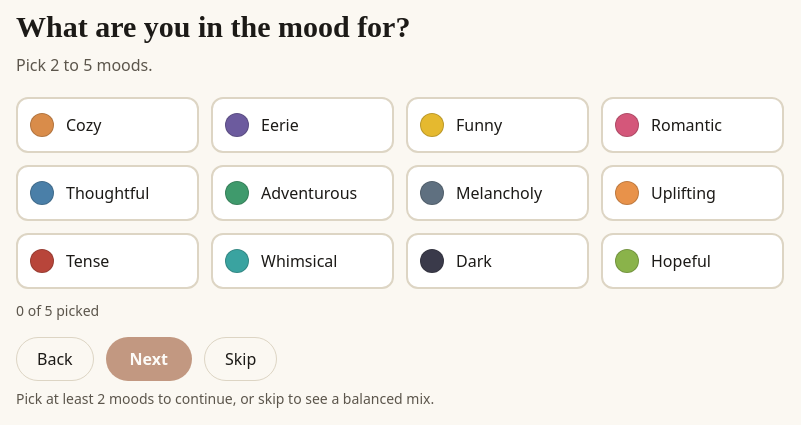
Test: Redo onboarding (the full flow) › has 12 labelled toggle buttons, Next disabled below 2 moods, and at most 5
The width and height of the screenshot is (801, 425).
expect the button "Next" is disabled: met, box [106,337,192,381]
expect the text "Pick at least 2 moods" is shown: met, box [16,389,434,408]
Click the button "Eerie".
click(302, 125)  # box [211,97,394,153]
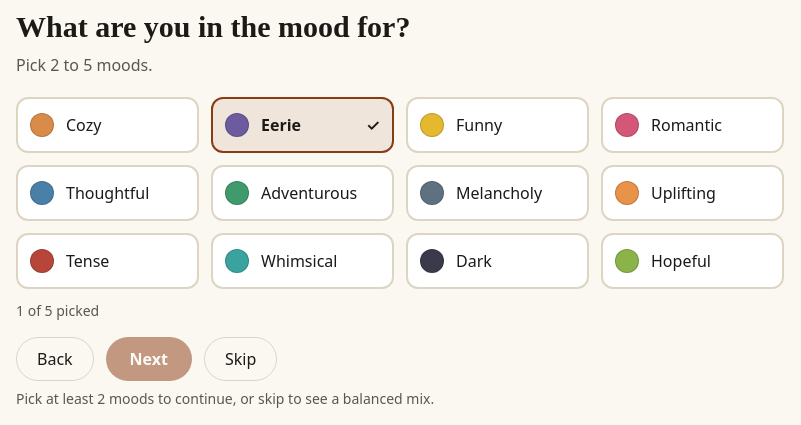
Click the button "Cozy".
click(108, 125)  # box [16,97,199,153]
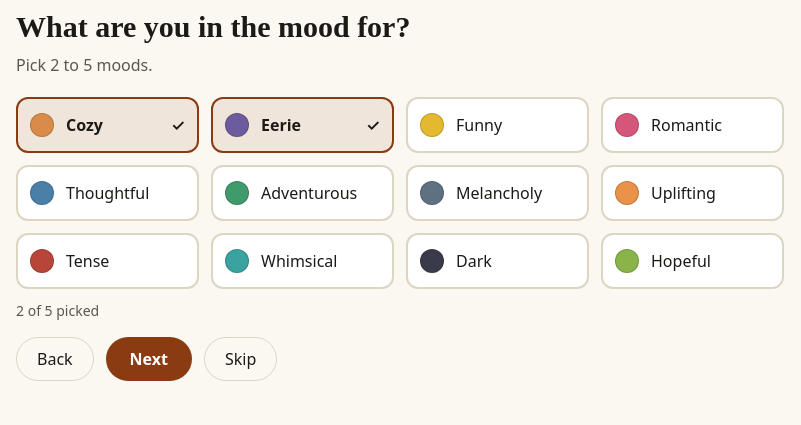
expect the button "Next" is enabled: met, box [106,337,192,381]
expect the message reads "2 of 5 picked": met, box [16,301,99,320]
Click the button "Funny".
click(498, 125)  # box [406,97,589,153]
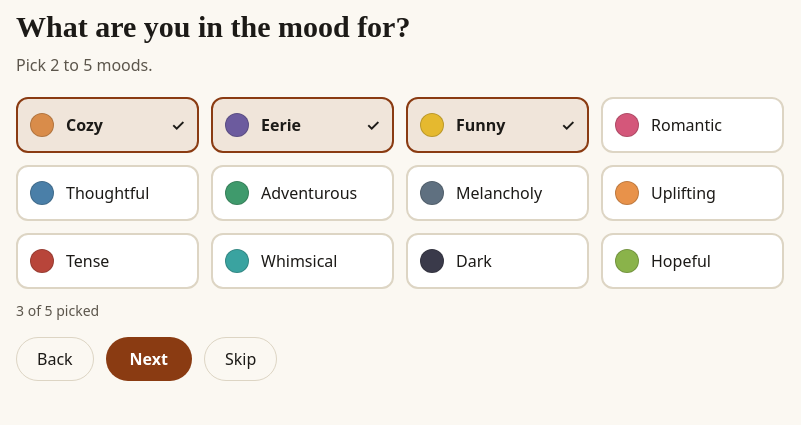
Click the button "Romantic".
click(692, 125)  # box [601,97,784,153]
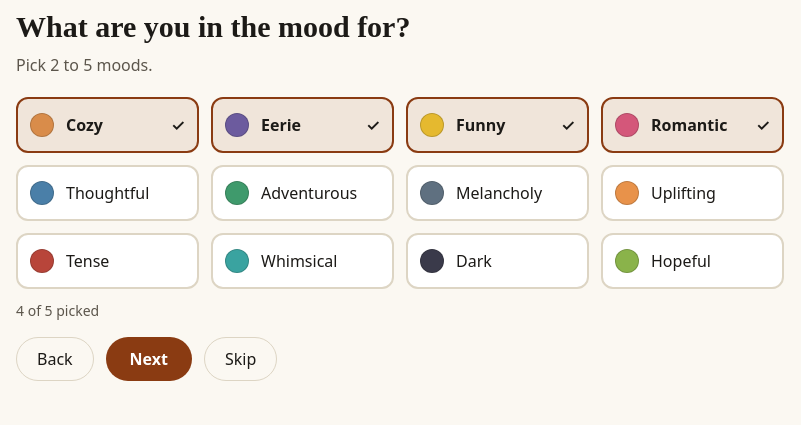
Click the button "Tense".
click(108, 261)  # box [16,233,199,289]
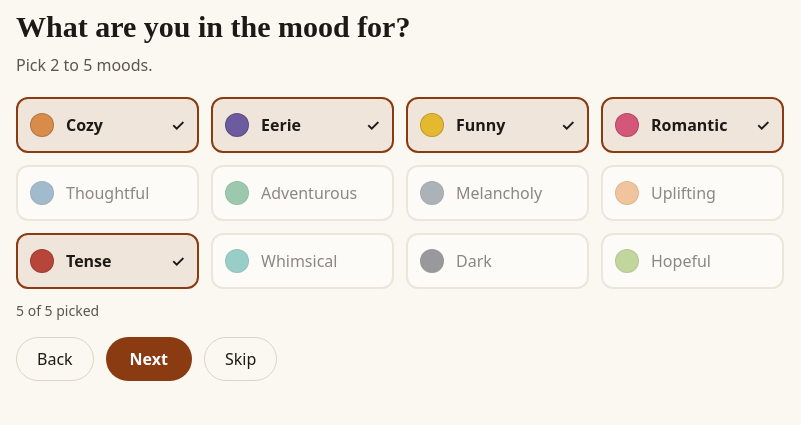
expect the button "Dark" is disabled: met, box [406,233,589,289]
